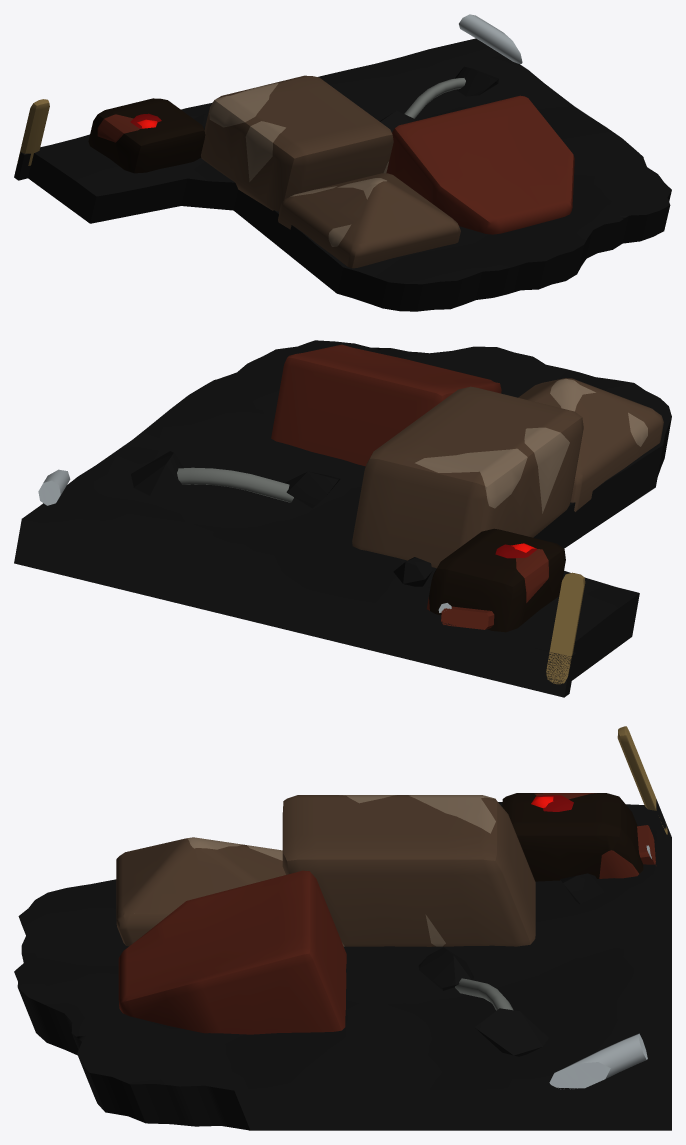
File: red_works_bl_wreck.glb
The picture shows the model from 3 angles, top to bottom: view 1: azimuth 30°, elevation 25°; view 2: azimuth 150°, elevation 25°; view 3: azimuth 270°, elevation 25°; orthographic projection. The views are drawn at different scales.
Visible parts, largest first — view 1: red_works_bl_wreck; view 2: red_works_bl_wreck; view 3: red_works_bl_wreck.
Boxes of the visible parts, x1,y1,x2,y2 form: red_works_bl_wreck: [14, 14, 671, 311]; red_works_bl_wreck: [14, 340, 671, 697]; red_works_bl_wreck: [14, 726, 671, 1130].
Bounding box in the file's own units: 24 × 5 × 22.76.
